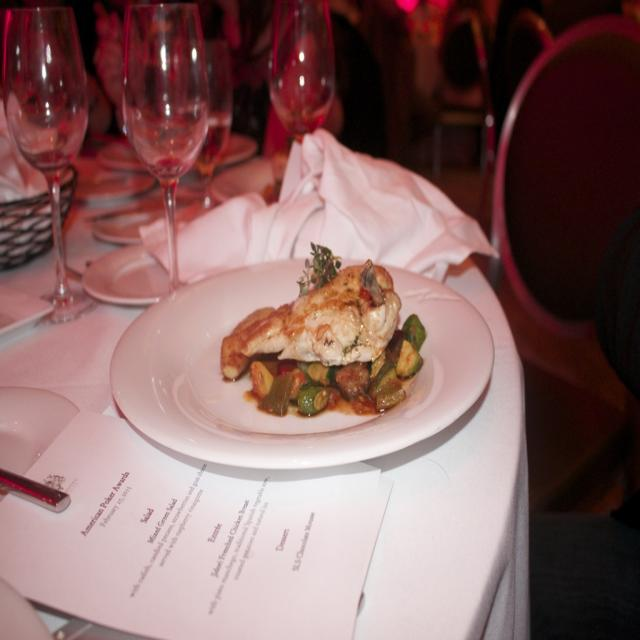non-organic waste: (86, 189, 511, 497)
